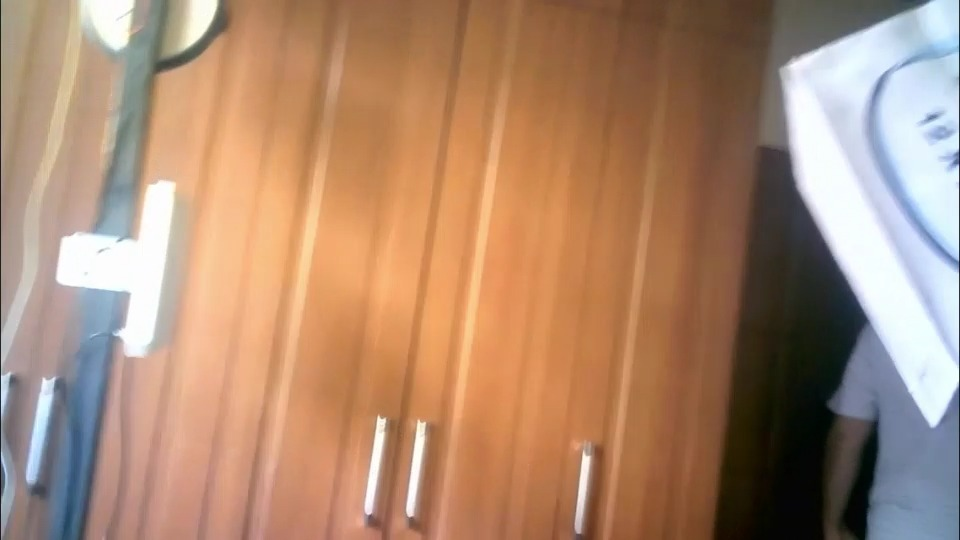wheat_flour_blue_label: (785, 3, 952, 420)
